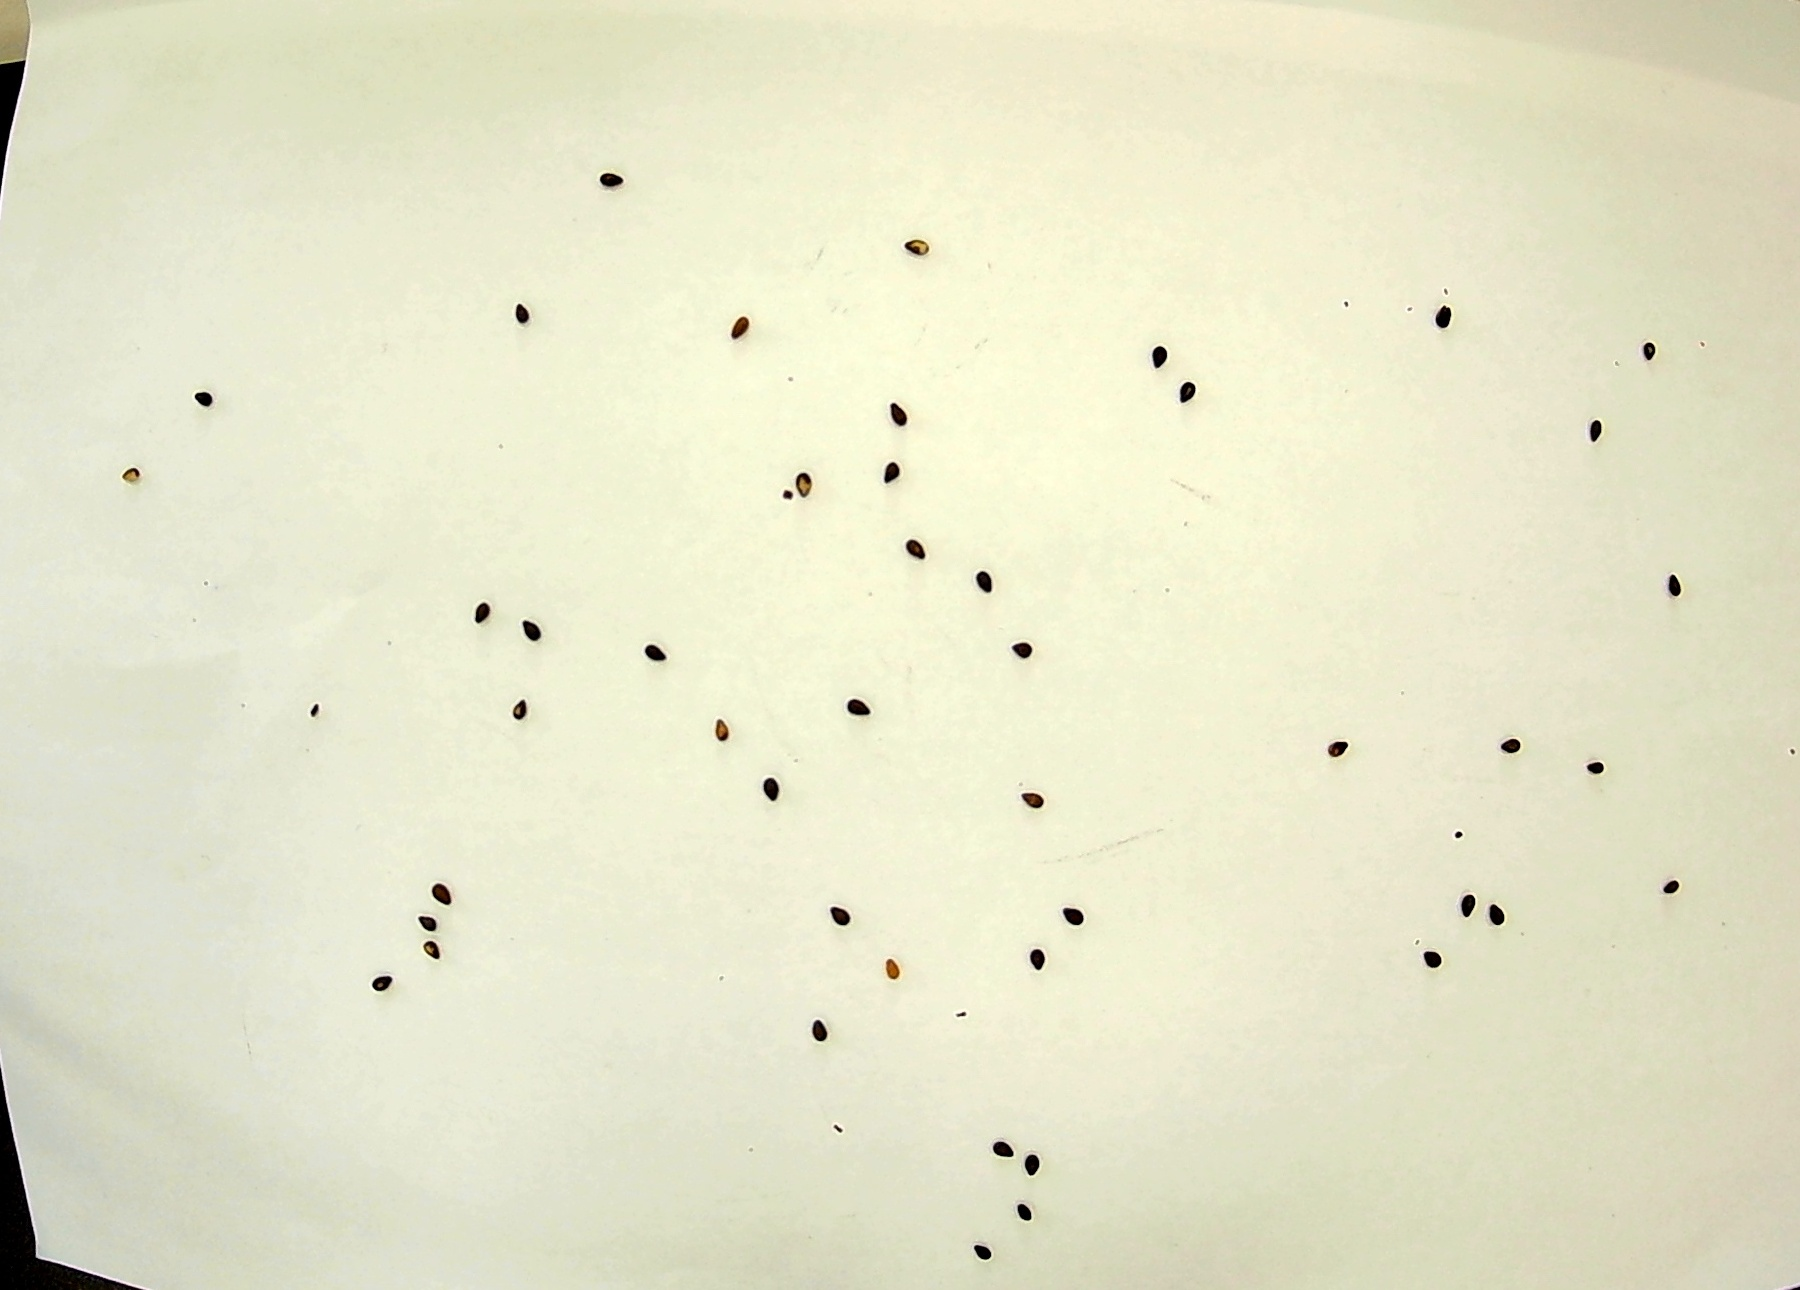sesami: (505, 295, 537, 328), (594, 161, 627, 194), (181, 384, 213, 417), (110, 465, 142, 498), (466, 589, 498, 623), (421, 878, 453, 912), (399, 907, 431, 941), (370, 972, 402, 1005), (804, 1011, 836, 1044), (873, 949, 906, 983), (823, 906, 855, 940), (758, 778, 790, 811), (633, 630, 666, 663), (843, 687, 875, 720), (897, 522, 929, 556), (873, 441, 906, 475), (906, 219, 938, 253), (787, 469, 819, 503), (1012, 773, 1044, 807), (1055, 895, 1087, 928), (1019, 947, 1051, 980), (978, 1134, 1010, 1167), (1014, 1141, 1047, 1174), (1418, 942, 1450, 976), (1437, 895, 1469, 928), (1585, 750, 1617, 783), (1316, 726, 1348, 759), (1570, 408, 1602, 441), (1630, 329, 1662, 363), (1422, 303, 1454, 336), (1169, 377, 1201, 410), (1147, 345, 1179, 378), (507, 614, 539, 646), (507, 699, 539, 732), (1005, 644, 1037, 676), (985, 570, 1017, 602), (887, 390, 920, 422), (719, 311, 751, 343), (966, 1229, 998, 1261), (1482, 905, 1514, 937), (1500, 732, 1532, 764), (1658, 568, 1690, 600), (1658, 868, 1688, 902), (412, 940, 442, 972), (698, 711, 728, 743), (1005, 1199, 1035, 1231)
